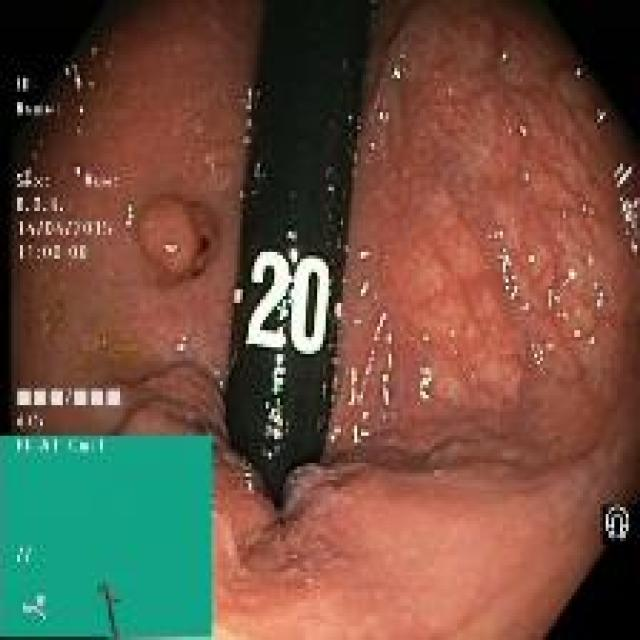Polyps: (139, 198, 200, 276)
